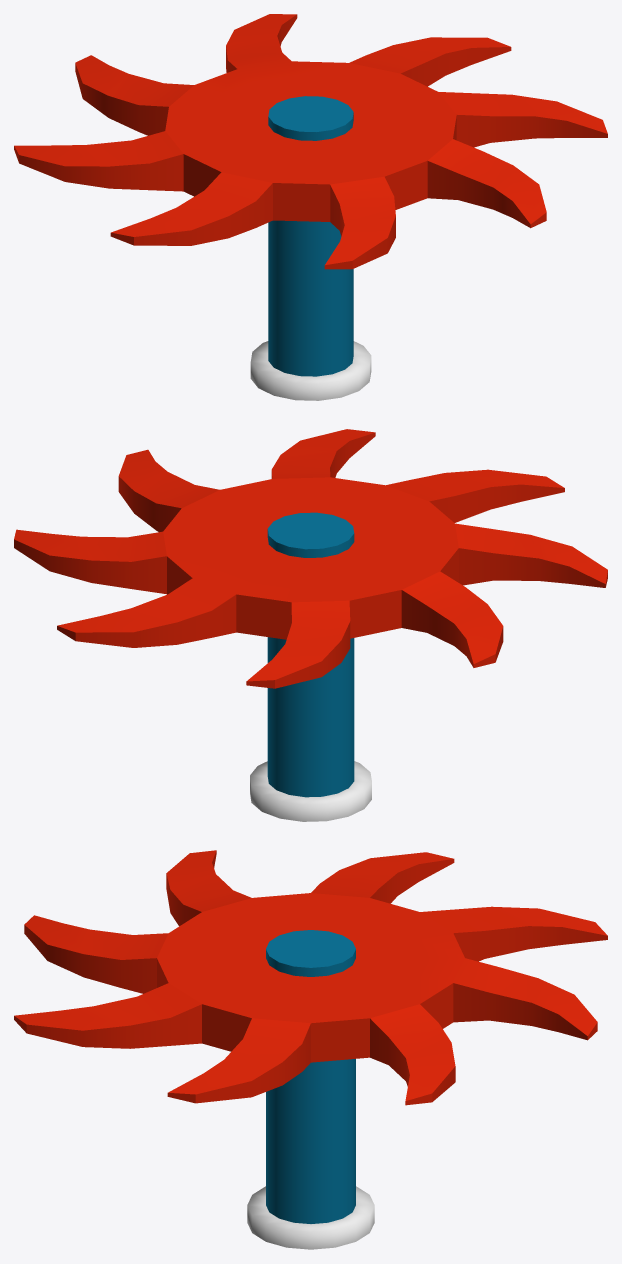
Rendered from Obs_12.fbx.
The picture shows the model from 3 angles, top to bottom: view 1: azimuth 30°, elevation 25°; view 2: azimuth 150°, elevation 25°; view 3: azimuth 270°, elevation 25°; orthographic projection. The views are drawn at different scales.
Visible parts, largest first — view 1: Obs_12; view 2: Obs_12; view 3: Obs_12.
Boxes of the visible parts, x1,y1,x2,y2 form: Obs_12: (14, 14, 607, 400); Obs_12: (14, 429, 607, 821); Obs_12: (14, 850, 607, 1249).
Size of the model in its own units: 1.11 by 0.5653 by 1.11.
